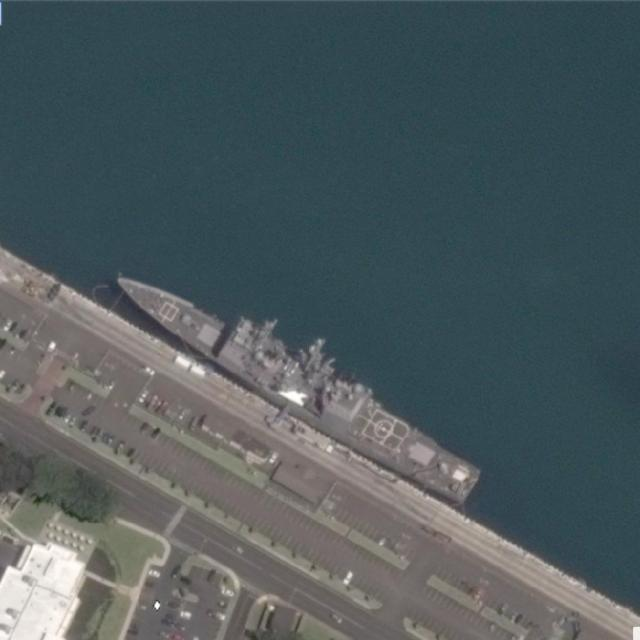Cruiser: (106, 264, 482, 504)
